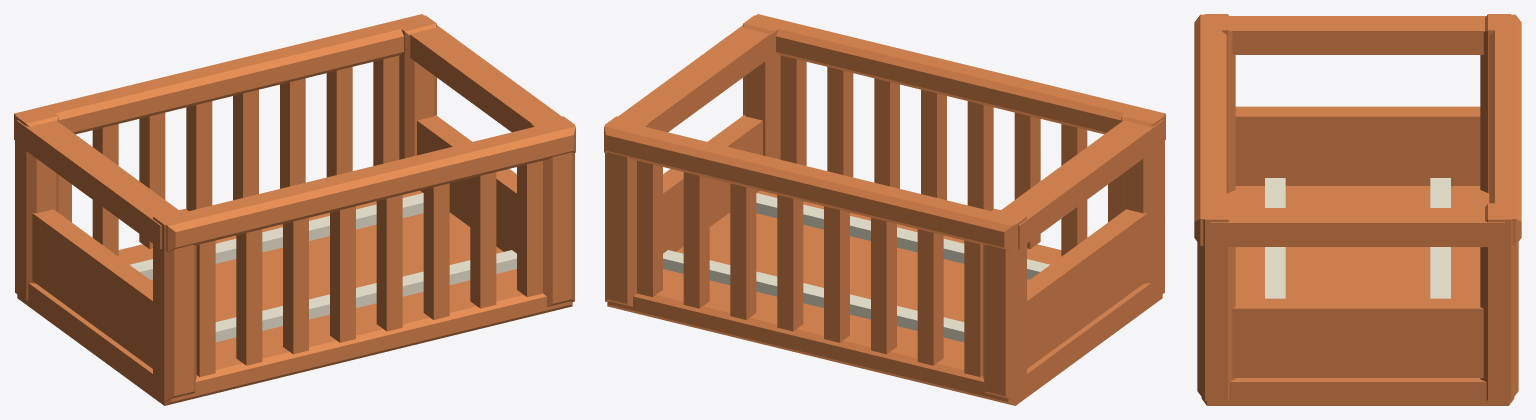
File: harbor-and-tackle-seafood-crate-75eee793__19593.glb
The picture shows the model from 3 angles, left to right: view 1: azimuth 30°, elevation 25°; view 2: azimuth 150°, elevation 25°; view 3: azimuth 270°, elevation 25°; orthographic projection. The views are drawn at different scales.
Visible parts, largest first — view 1: orange, ivory; view 2: orange, ivory; view 3: orange, ivory.
Boxes of the visible parts, x1=… form: orange: x1=14, y1=14, x2=575, y2=405; ivory: x1=130, y1=193, x2=516, y2=342; orange: x1=604, y1=14, x2=1165, y2=405; ivory: x1=663, y1=193, x2=1049, y2=342; orange: x1=1194, y1=14, x2=1521, y2=405; ivory: x1=1265, y1=178, x2=1450, y2=298.
Size of the model in its own units: 0.83 by 0.35 by 0.555.
